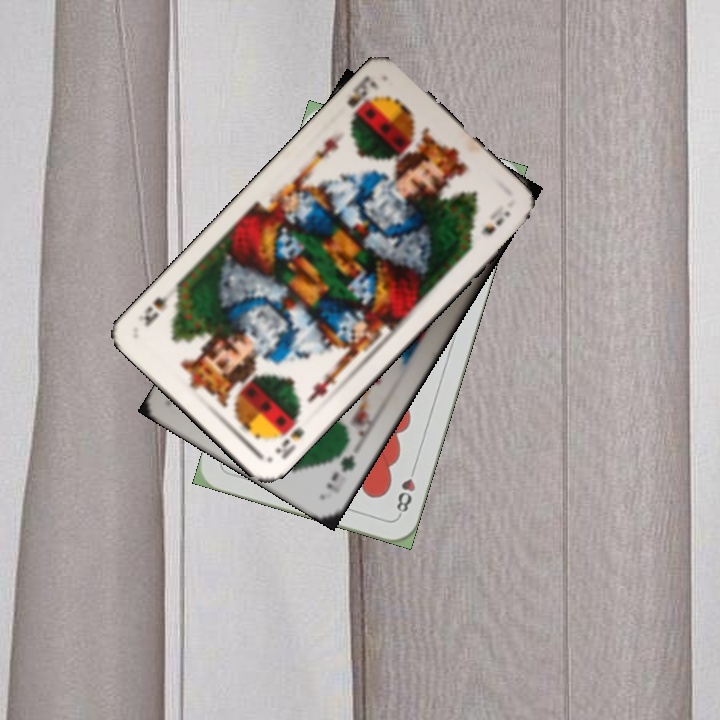GK: (322, 450, 358, 496)
H8: (392, 461, 419, 519)
SK: (342, 72, 382, 126), (271, 423, 307, 462)
